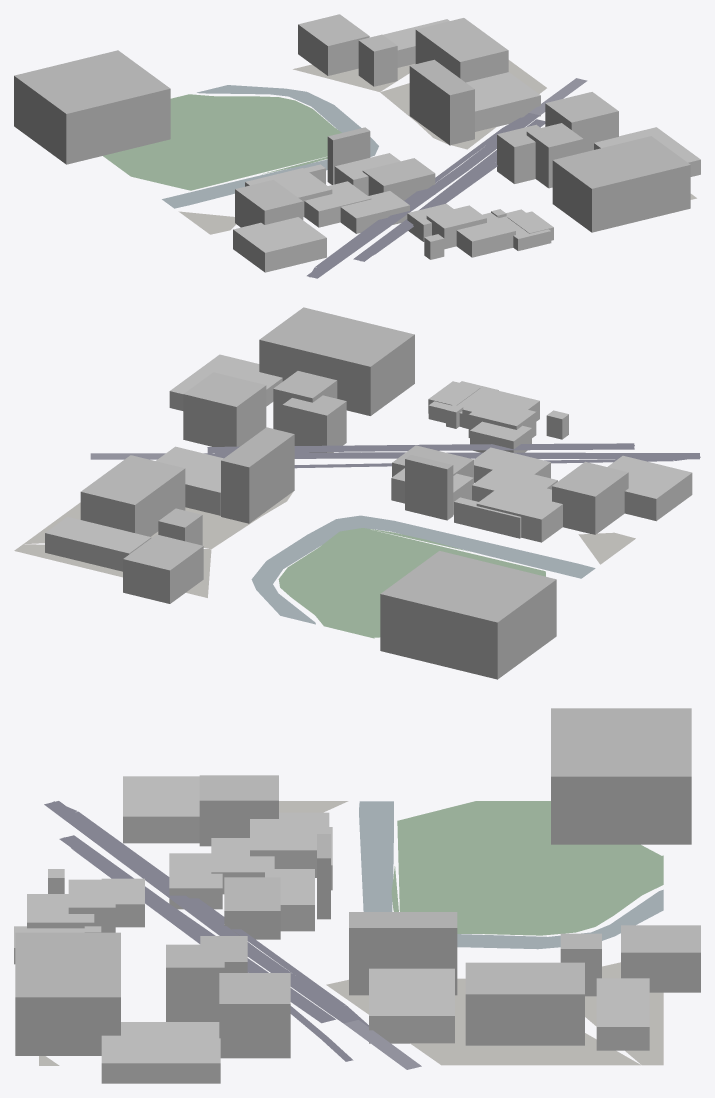
The model's file is 125_107_mid.glb.
The picture shows the model from 3 angles, top to bottom: view 1: azimuth 30°, elevation 25°; view 2: azimuth 150°, elevation 25°; view 3: azimuth 270°, elevation 25°; orthographic projection. The views are drawn at different scales.
Bounding box in the file's own units: 579 × 61.62 × 550.
